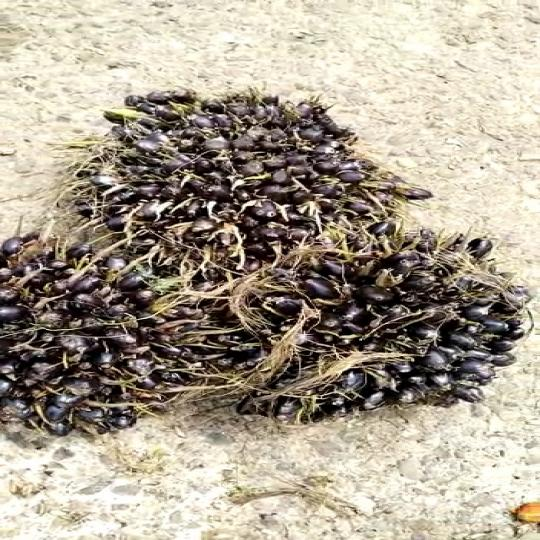mentah: (74, 70, 442, 305), (209, 252, 540, 442), (0, 253, 251, 433)
